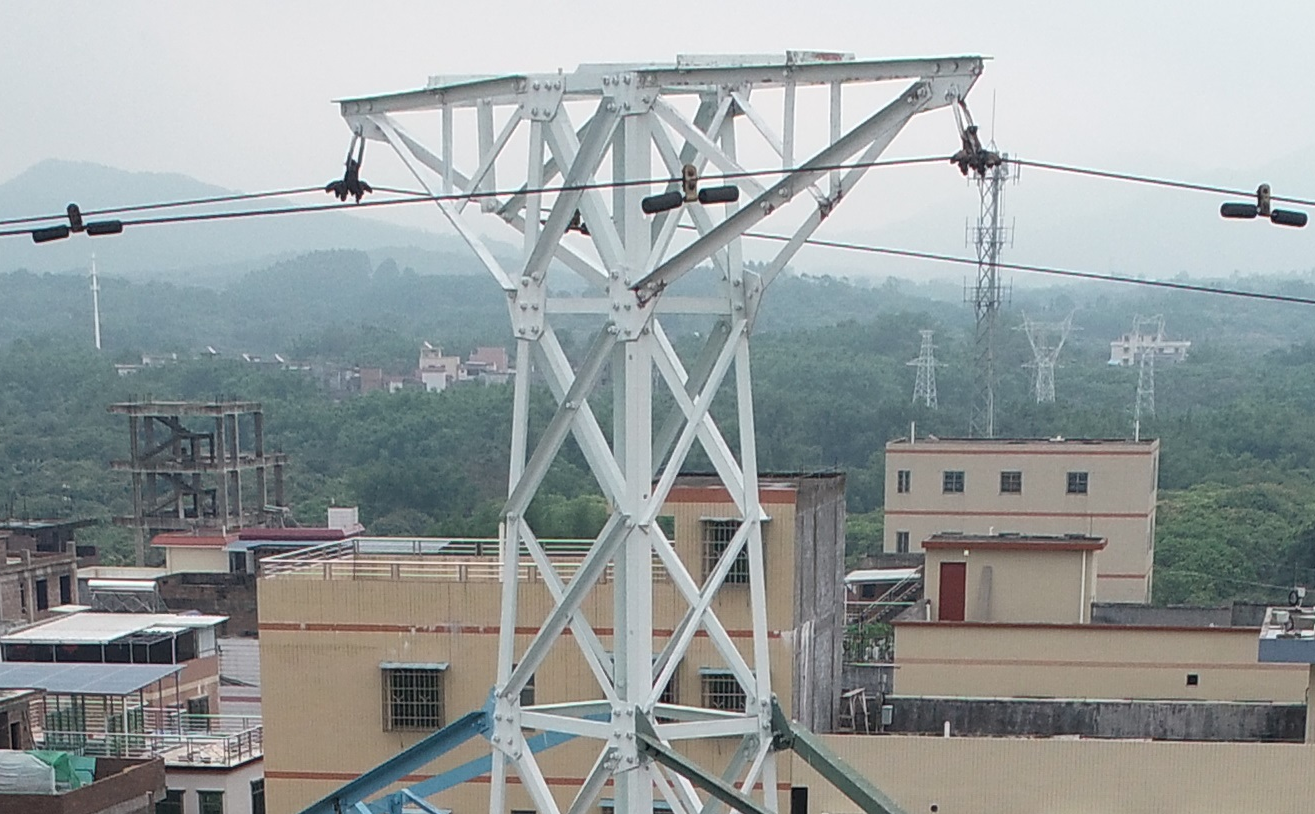damper: (640, 161, 740, 214), (28, 200, 125, 245), (1215, 182, 1309, 228)
